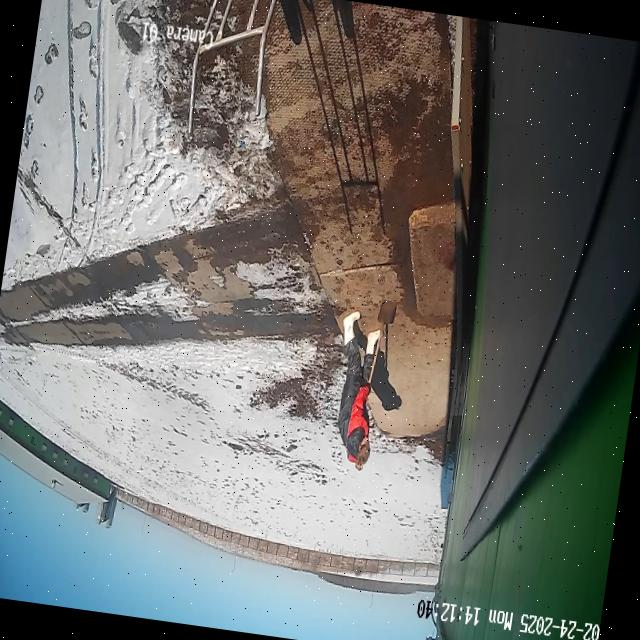Red uniform: (321, 307, 392, 474), (342, 381, 377, 464)
